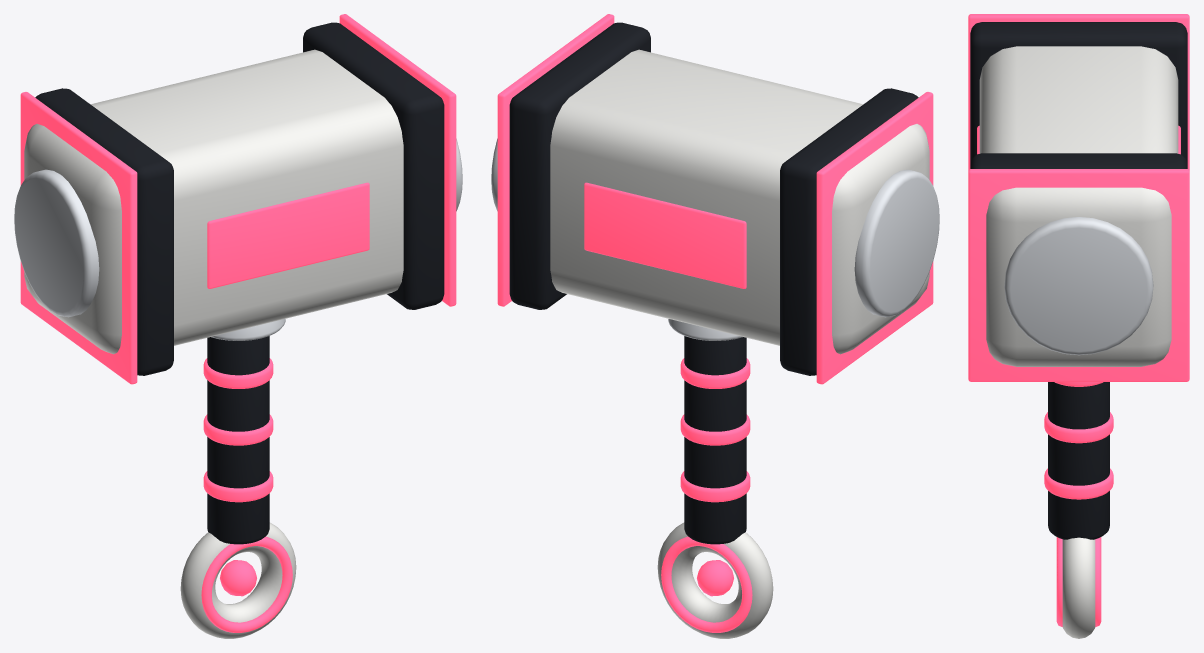
File: heavy.glb
The picture shows the model from 3 angles, left to right: view 1: azimuth 30°, elevation 25°; view 2: azimuth 150°, elevation 25°; view 3: azimuth 270°, elevation 25°; orthographic projection.
Visible parts, largest first — view 1: Head, Band+1, Panel+1, Band-1, Handle, Face-1, BandLight-1, Pommel, BandLight+1, PomLight+1, Grip1, Grip2 (+3 smaller); view 2: Head, Band+1, Panel-1, Band-1, Handle, Face-1, BandLight-1, Pommel, BandLight+1, PomLight-1, Grip1, Grip2 (+3 smaller); view 3: Head, Face+1, BandLight+1, Band-1, Handle, Band+1, Pommel, BandLight-1, Grip2, Grip1, PomLight+1, PomLight-1.
Boxes of the visible parts, box(x1,y1,x2,y2) form: Head: box(24, 49, 403, 354); Band+1: box(303, 22, 444, 309); Panel+1: box(207, 182, 369, 288); Band-1: box(35, 88, 173, 375); Handle: box(207, 336, 269, 544); Face-1: box(14, 169, 99, 317); BandLight-1: box(20, 92, 137, 384); Pommel: box(180, 522, 296, 638); BandLight+1: box(339, 14, 456, 306); PomLight+1: box(201, 536, 292, 632); Grip1: box(203, 414, 273, 445); Grip2: box(203, 471, 273, 502); Head: box(550, 49, 929, 354); Band+1: box(509, 22, 650, 309); Panel-1: box(584, 182, 746, 288); Band-1: box(780, 88, 918, 375); Handle: box(684, 336, 746, 544); Face-1: box(854, 169, 939, 317); BandLight-1: box(816, 92, 933, 384); Pommel: box(657, 522, 773, 638); BandLight+1: box(497, 14, 614, 306); PomLight-1: box(661, 536, 752, 632); Grip1: box(680, 414, 750, 445); Grip2: box(680, 471, 750, 502); Head: box(979, 46, 1178, 366); Face+1: box(1004, 217, 1153, 355); BandLight+1: box(968, 169, 1189, 381); Band-1: box(970, 22, 1187, 163); Handle: box(1048, 382, 1109, 539); Band+1: box(970, 153, 1187, 168); Pommel: box(1062, 537, 1095, 638); BandLight-1: box(968, 14, 1189, 170); Grip2: box(1044, 468, 1113, 499); Grip1: box(1044, 412, 1113, 443); PomLight+1: box(1056, 537, 1062, 626); PomLight-1: box(1095, 537, 1101, 626).
Size of the model in its own units: 0.7 by 0.9605 by 0.356.
